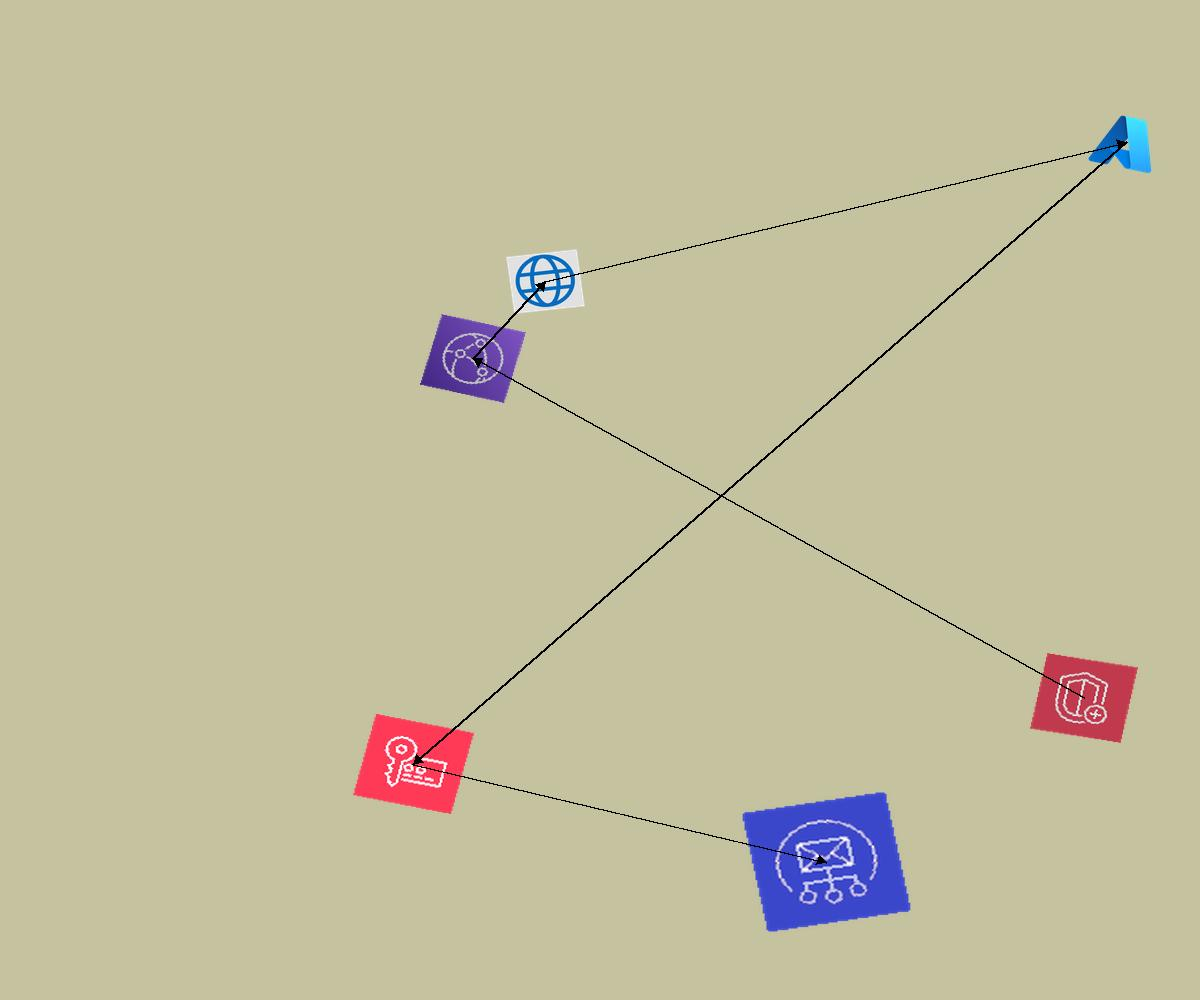AWS-CloudFront: (420, 314, 526, 403)
AWS-Key-Management-Service: (352, 713, 475, 815)
AWS-Shield: (1030, 653, 1138, 743)
AWS-Simple-Email-Service: (741, 791, 912, 933)
Azure_http: (506, 249, 585, 314)
Azure_services: (1084, 107, 1169, 178)
